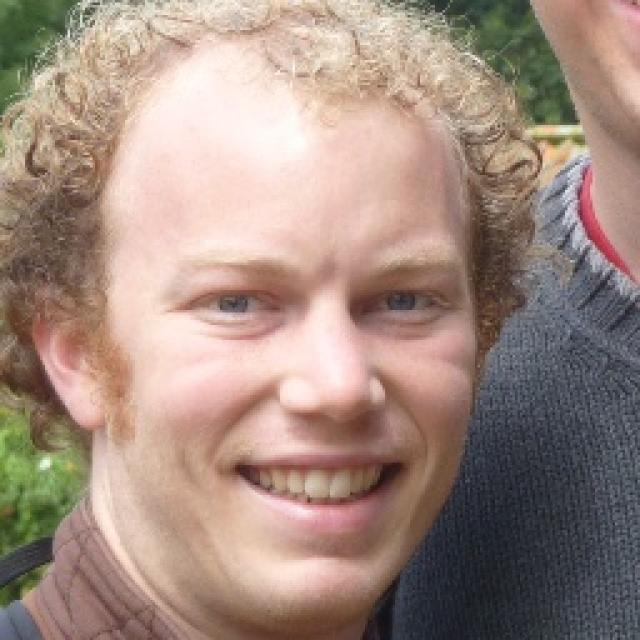earlobe: (26, 280, 111, 431)
